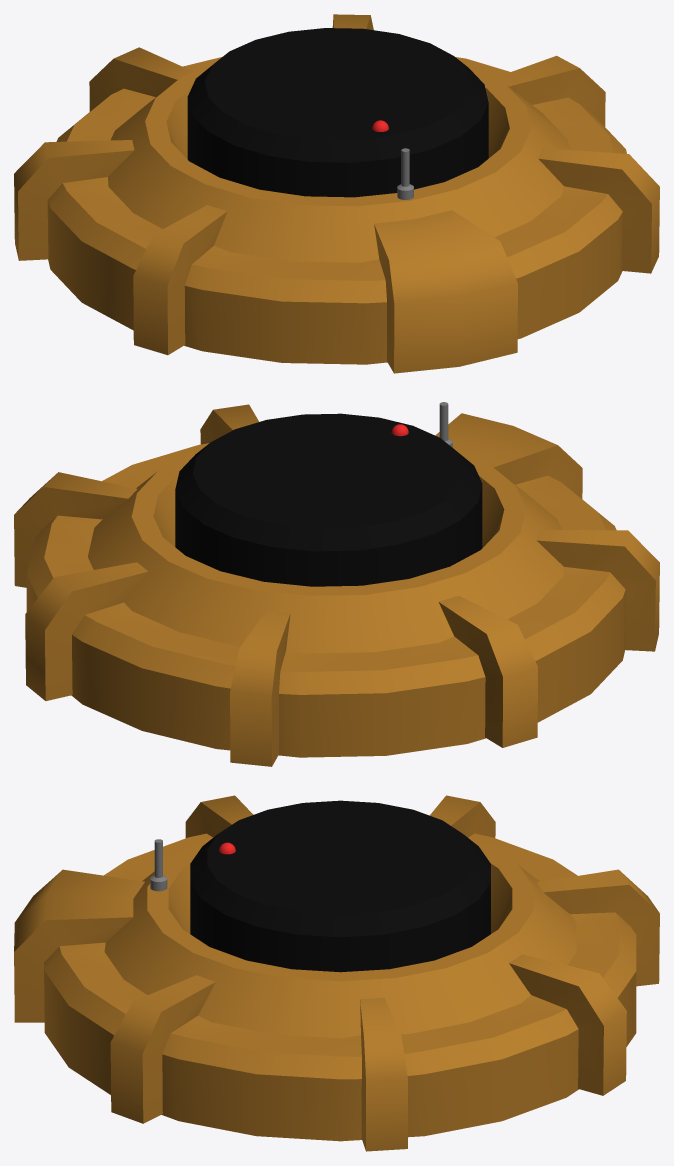
The model's file is landMine.FBX.
3 renders of one model, top to bottom at view 1: azimuth 30°, elevation 25°; view 2: azimuth 150°, elevation 25°; view 3: azimuth 270°, elevation 25°, orthographic. The views are drawn at different scales.
Parts seen in each view (by area): view 1: Land Mine, Anthena; view 2: Land Mine; view 3: Land Mine, Anthena.
Part boxes in pixels (box(x1,y1,x2,y2)): Land Mine: box(14, 14, 659, 373); Anthena: box(397, 148, 413, 199); Land Mine: box(14, 404, 659, 766); Land Mine: box(14, 795, 659, 1151); Anthena: box(150, 839, 167, 891).
Bounding box in the file's own units: 0.1481 × 0.0426 × 0.1513.
